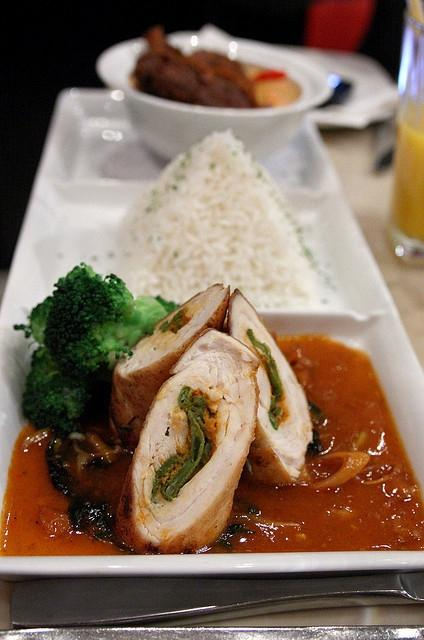broccoli: (42, 262, 168, 379), (22, 346, 92, 434), (13, 296, 54, 347), (154, 294, 181, 314)
